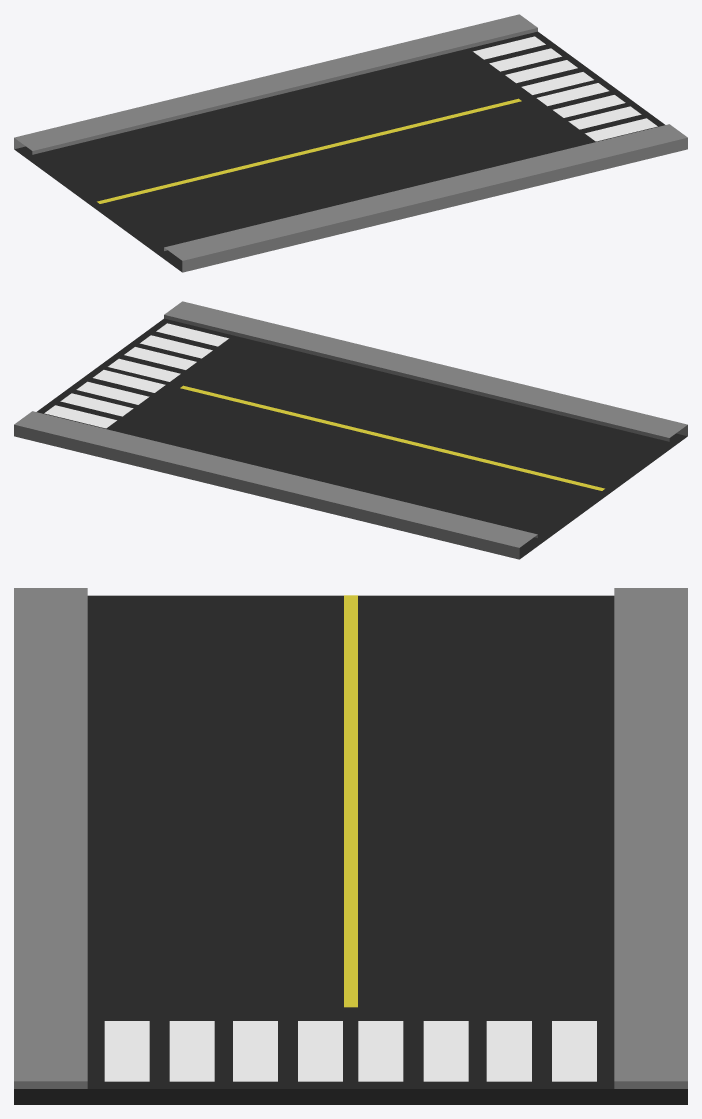
The model's file is road2.fbx.
3 renders of one model, top to bottom at view 1: azimuth 30°, elevation 25°; view 2: azimuth 150°, elevation 25°; view 3: azimuth 270°, elevation 25°, orthographic. The views are drawn at different scales.
Visible parts, largest first — view 1: Roads.001; view 2: Roads.001; view 3: Roads.001.
Boxes of the visible parts, box(x1,y1,x2,y2) form: Roads.001: box(14, 14, 687, 272); Roads.001: box(14, 301, 687, 559); Roads.001: box(14, 588, 687, 1104).
Size of the model in its own units: 1998 by 44.36 by 1154.
